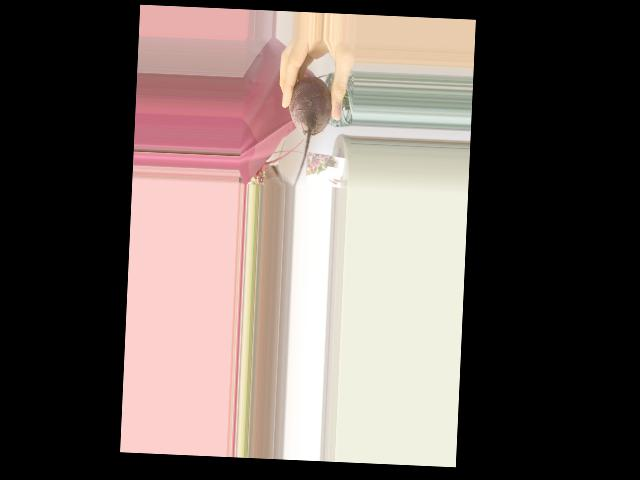beet: (285, 74, 333, 189)
